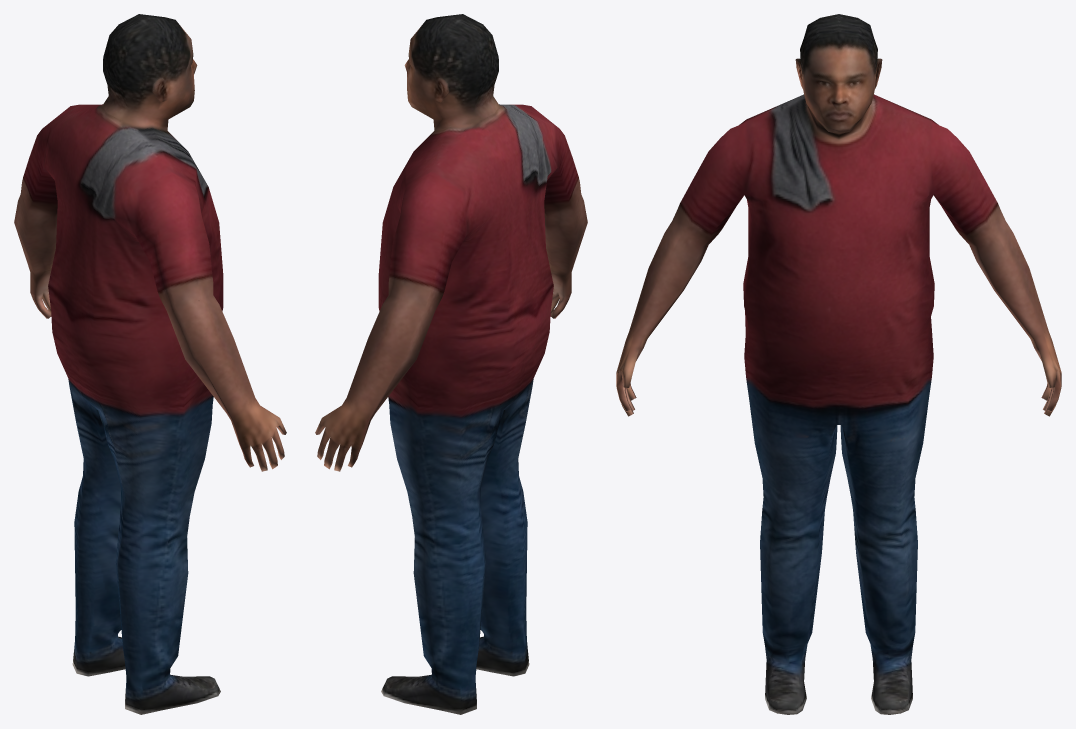
The model's file is Character_Male_52.fbx.
3 views of the same model, side by side, from view 1: azimuth 30°, elevation 25°; view 2: azimuth 150°, elevation 25°; view 3: azimuth 270°, elevation 25° (orthographic).
Visible parts, largest first — view 1: Character_Male_52; view 2: Character_Male_52; view 3: Character_Male_52.
Boxes of the visible parts, x1,y1,x2,y2 form: Character_Male_52: [14, 14, 286, 714]; Character_Male_52: [315, 14, 587, 714]; Character_Male_52: [616, 14, 1061, 714].
Bounding box in the file's own units: 0.4154 × 1.82 × 1.09.
